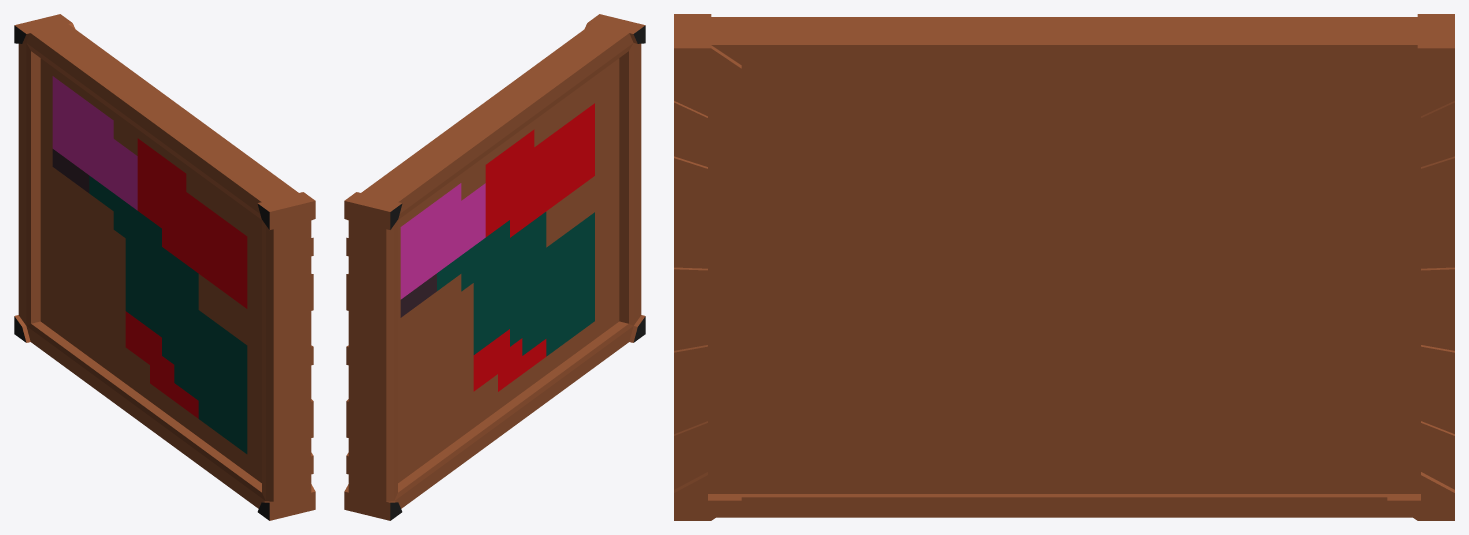
Rendered from chart_table_4.fbx.
3 views of the same model, side by side, from view 1: azimuth 30°, elevation 25°; view 2: azimuth 150°, elevation 25°; view 3: azimuth 270°, elevation 25° (orthographic). The views are drawn at different scales.
Parts seen in each view (by area): view 1: Cube; view 2: Cube; view 3: Cube.
Boxes of the visible parts, bbox=[...] form: Cube: bbox=[14, 14, 315, 520]; Cube: bbox=[344, 14, 645, 520]; Cube: bbox=[674, 14, 1454, 520].
Size of the model in its own units: 26.23 by 168 by 252.
